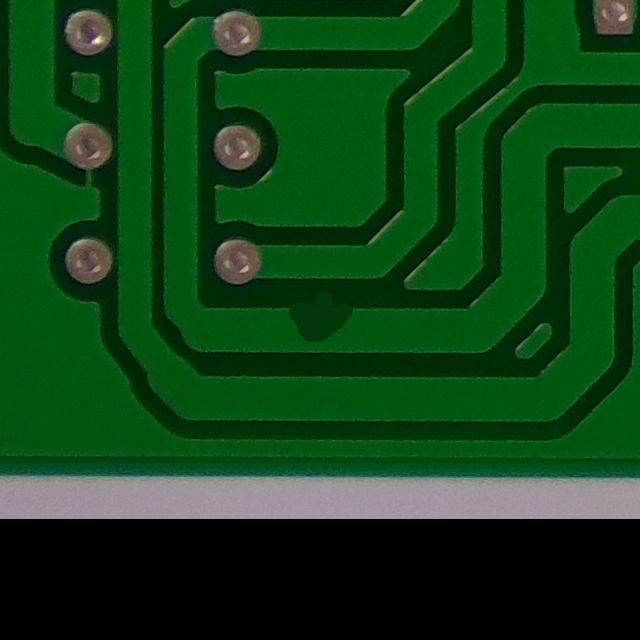mouse_bite: (270, 286, 370, 354)
